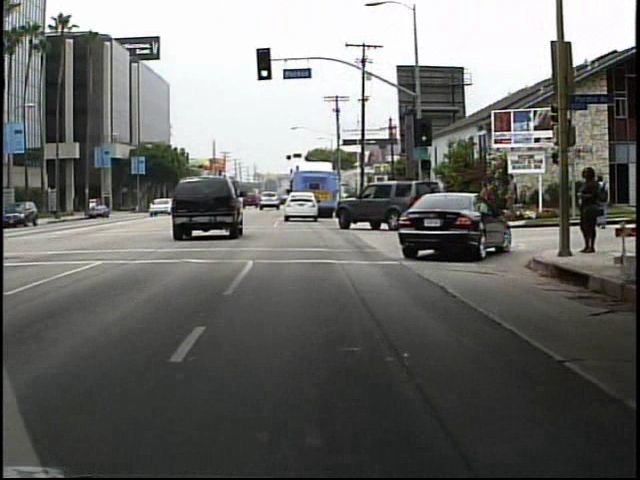person: (570, 163, 598, 258), (468, 177, 499, 234), (592, 171, 611, 233), (501, 174, 519, 222)
